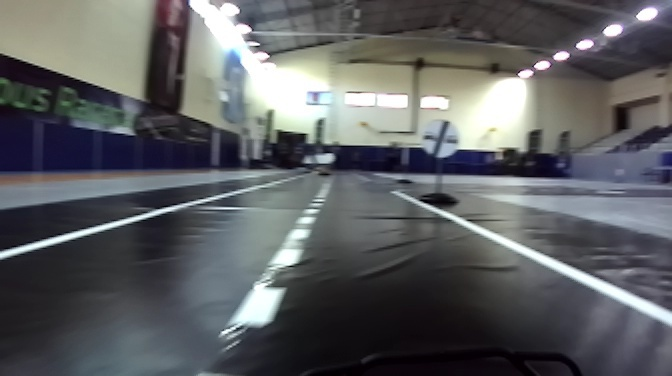sollama_serbest: (422, 121, 459, 157)
